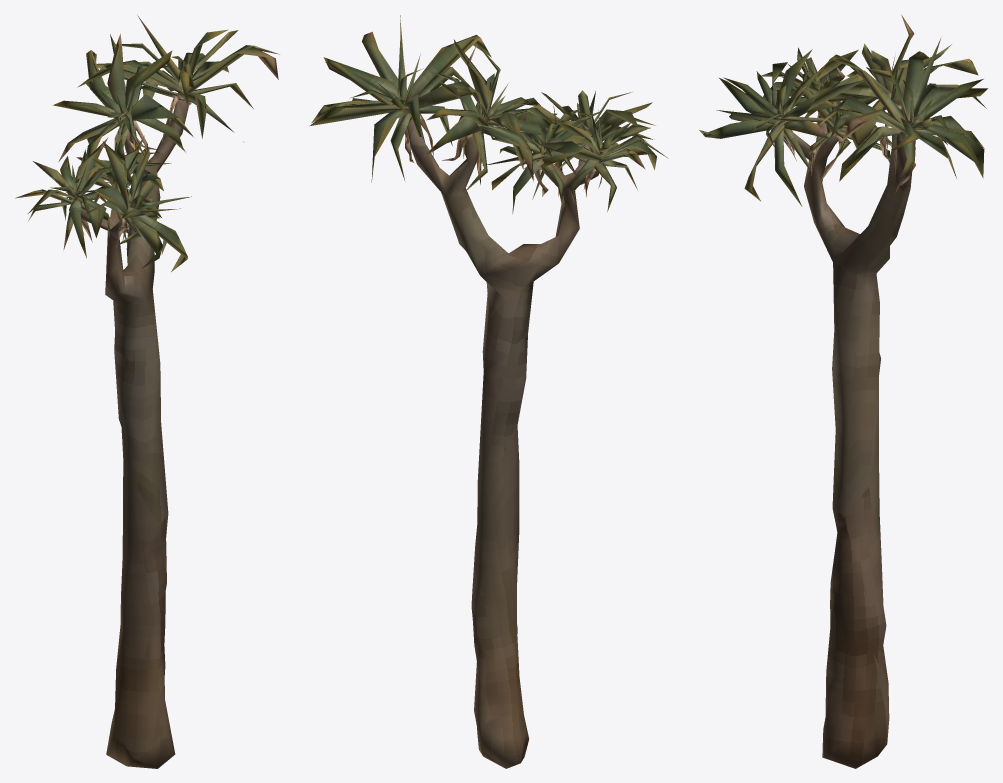
The model's file is tree_desert_far.glb.
3 renders of one model, left to right at view 1: azimuth 30°, elevation 25°; view 2: azimuth 150°, elevation 25°; view 3: azimuth 270°, elevation 25°, orthographic. The views are drawn at different scales.
Visible parts, largest first — view 1: tree_desert_far; view 2: tree_desert_far; view 3: tree_desert_far.
Boxes of the visible parts, x1,y1,x2,y2 form: tree_desert_far: (15, 15, 279, 768); tree_desert_far: (309, 15, 668, 768); tree_desert_far: (699, 15, 987, 768).
Bounding box in the file's own units: 1.18 × 2.7 × 0.9535.
2 materials, 2 textured.
